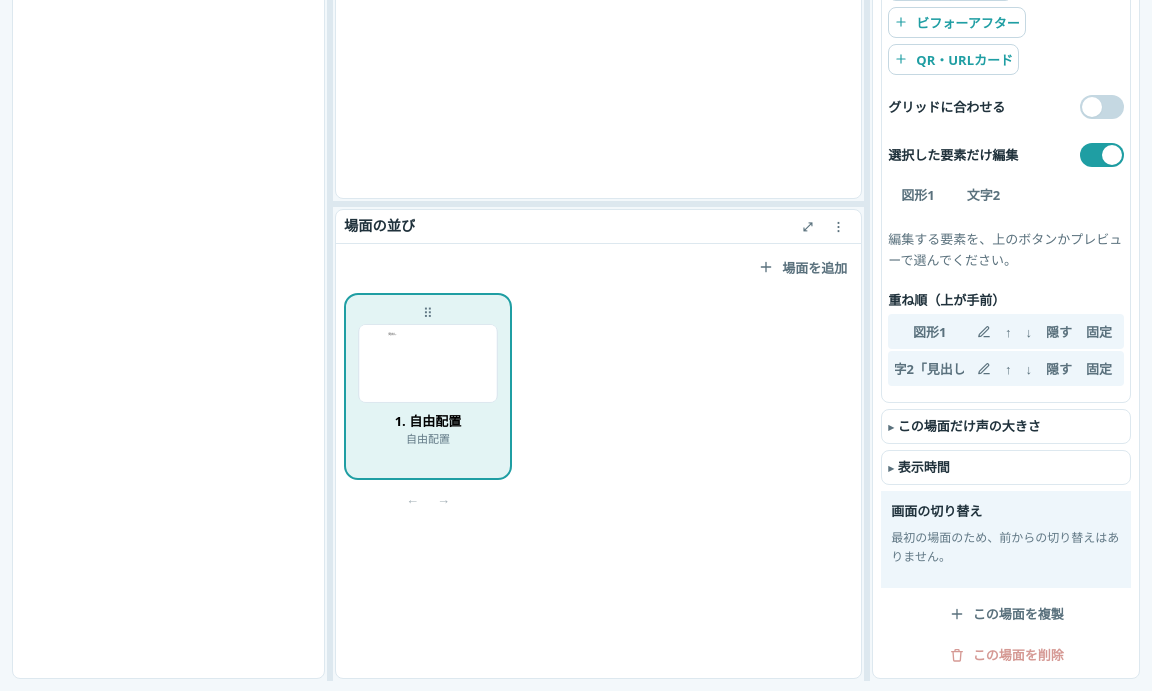
Test: SceneEditScreen FREE 要素の命名（#525-12） › Escape で改名をキャンセルする（name は変わらない）
(page scrolled)
Click the 1st button named "名前を変更": [984, 332] box 971,319 -> 997,345
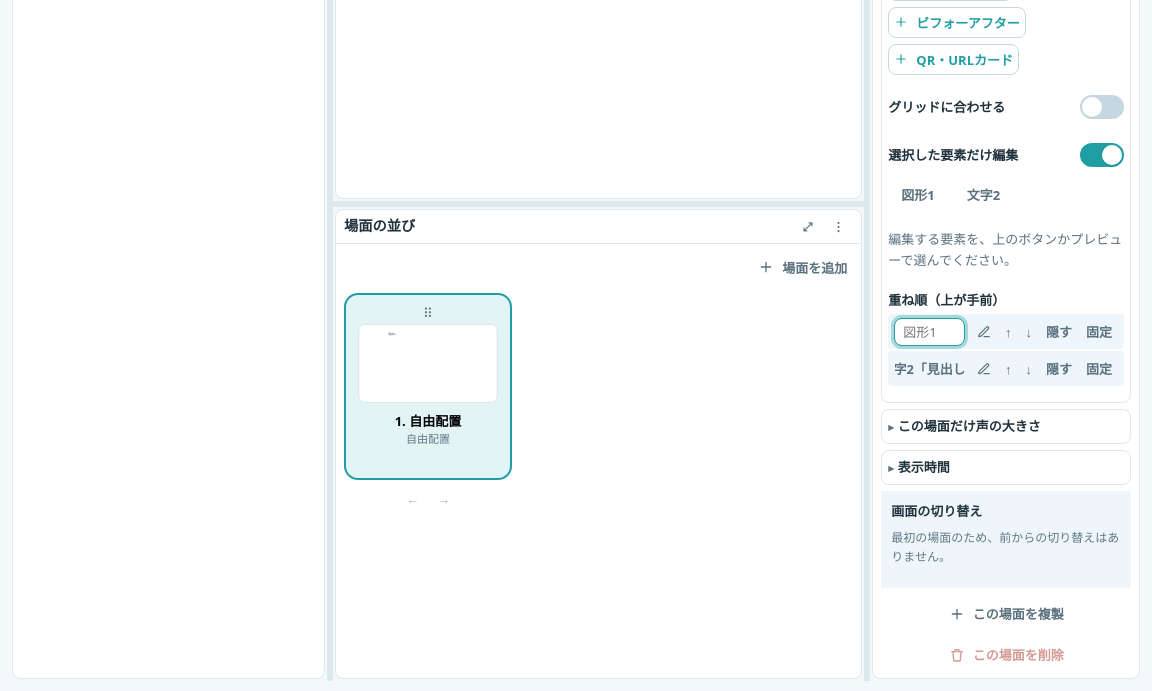
In the field named "要素名": [930, 332] box 894,318 -> 965,346, type "捨てる"
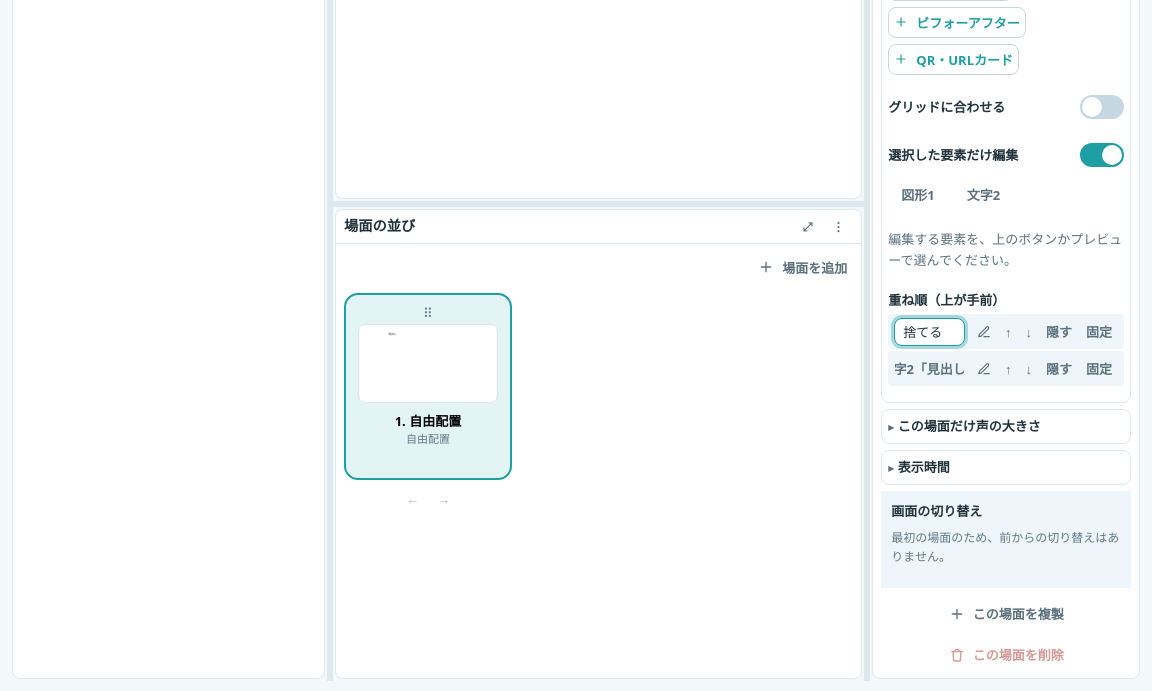
Press Escape in the field named "要素名", box 894,318 -> 965,346
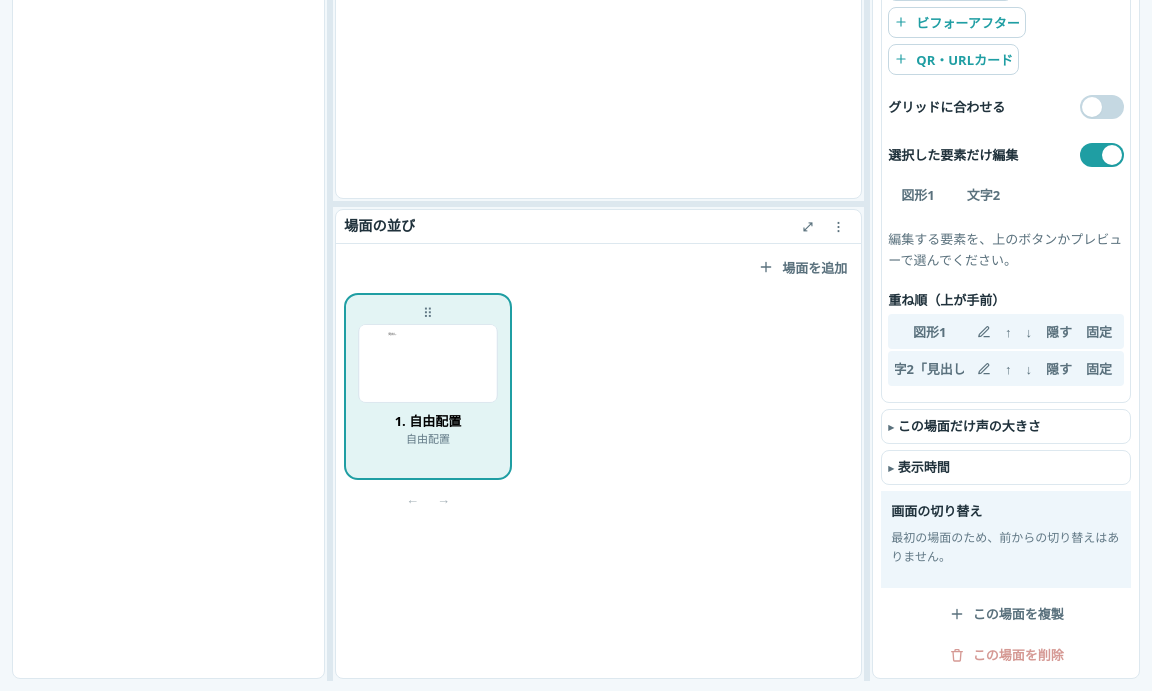
Check: the field labelled "要素名" is gone
